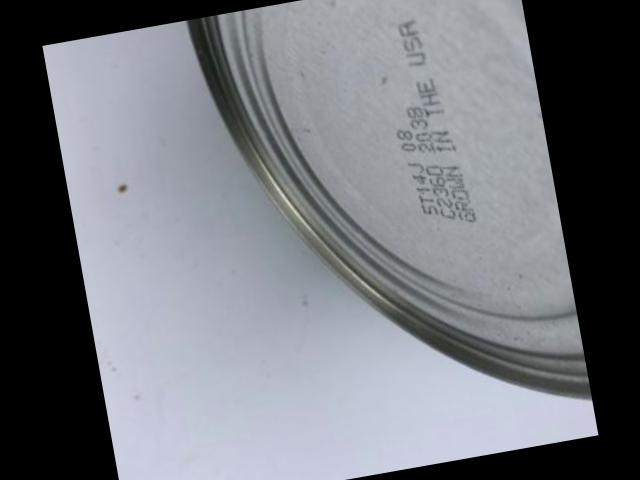metal: (186, 0, 589, 399)
